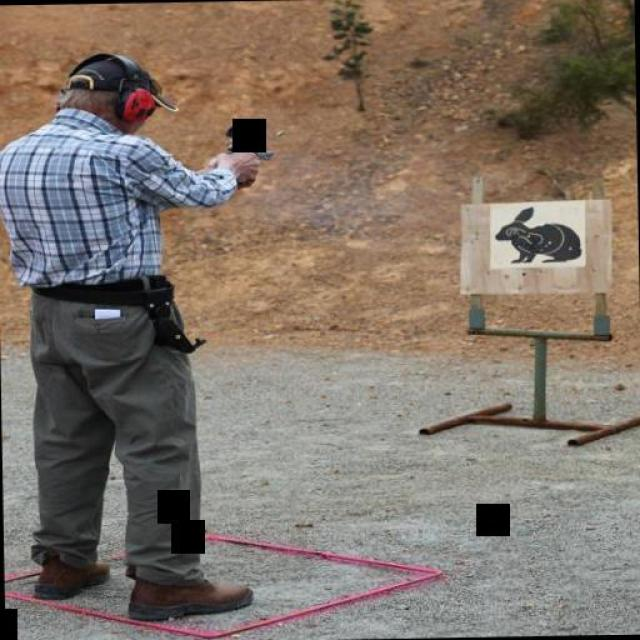gun: (210, 119, 280, 166)
